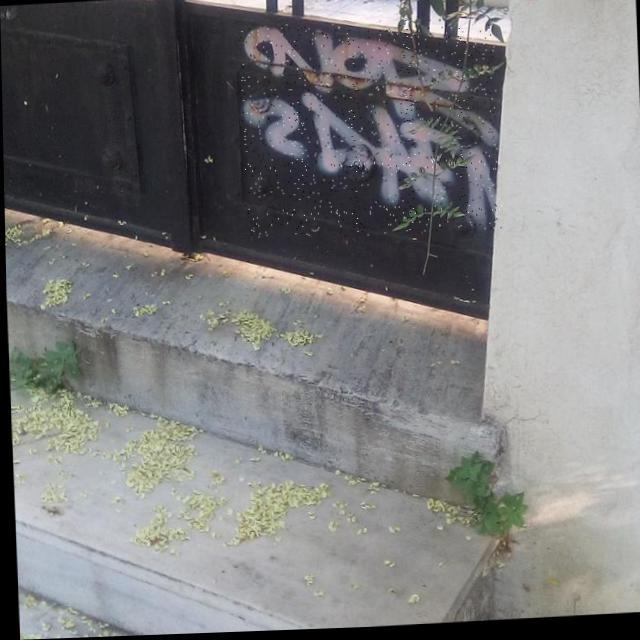-: (238, 17, 502, 244)
